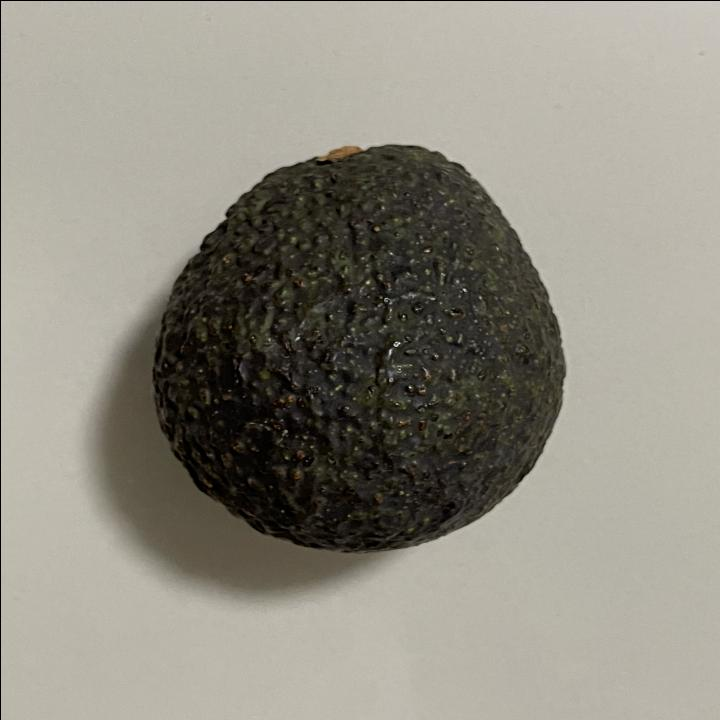Level2: (142, 139, 572, 558)
